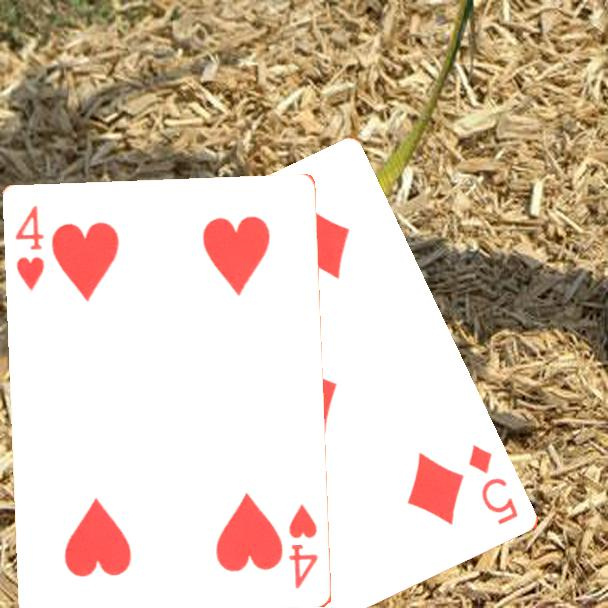d05: (465, 441, 522, 528)
h04: (285, 500, 321, 593), (12, 202, 48, 295)
